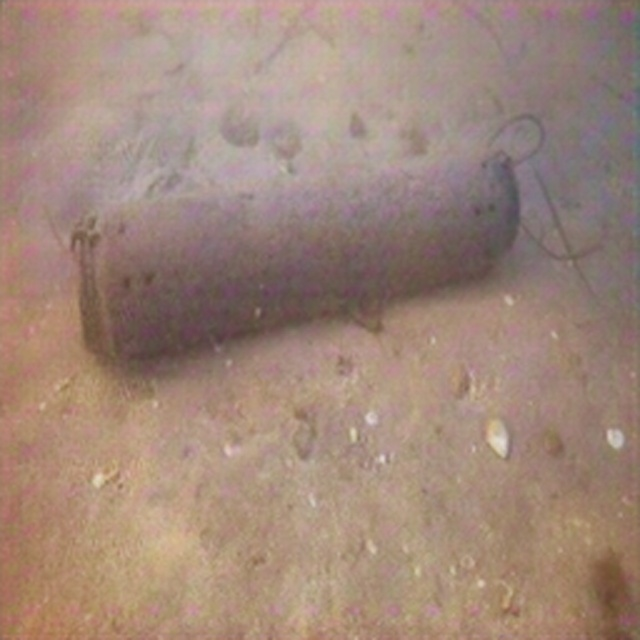mine: (76, 151, 519, 364)
